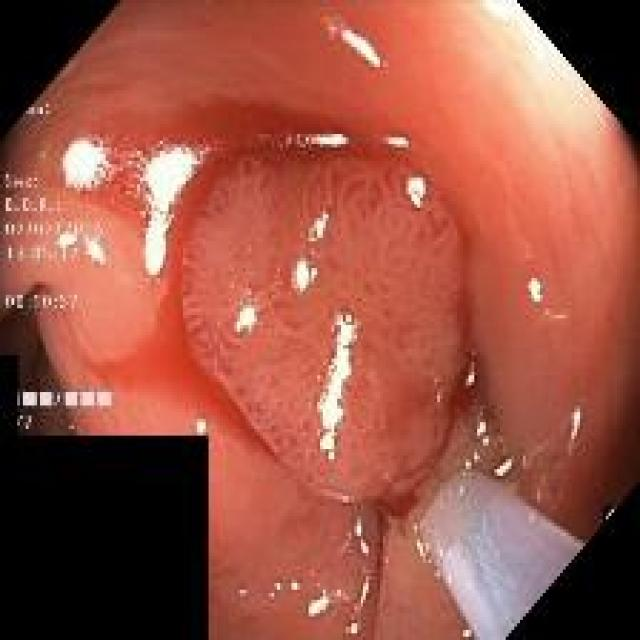Polyps: (181, 152, 465, 501)
